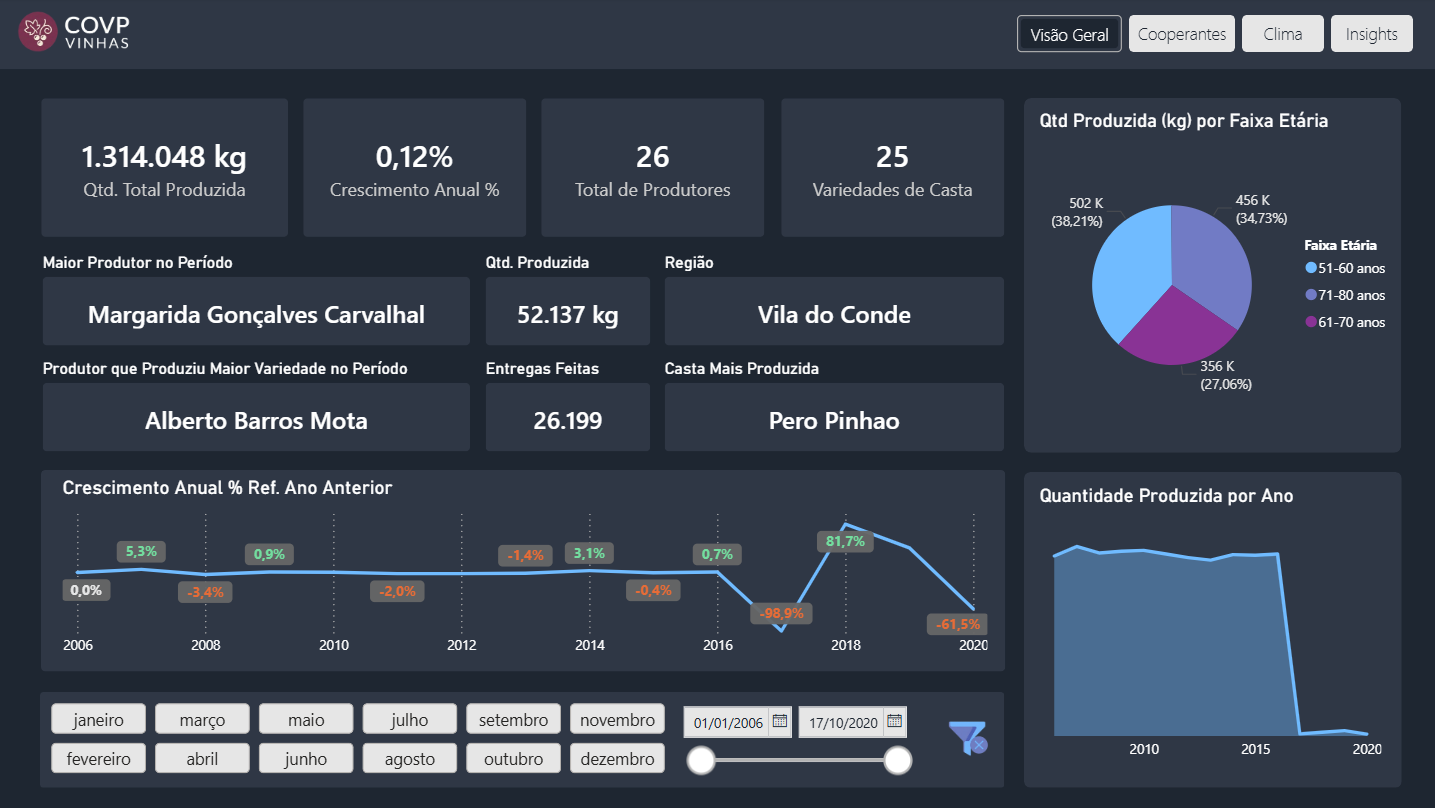

Layout of this report page (visuals, bound fields, positions):
{"tool":"powerbi","page":{"name":"Visão Geral","canvas":[1280,720],"ordinal":0},"visuals":[{"type":"group","id":"g1","title":"Grupo 1","box":[36.9,418.8,855,178.8],"z":0},{"type":"group","id":"g2","title":"Grupo 2","box":[909.1,420,335,280],"z":500},{"type":"group","id":"g3","title":"Grupo 3","box":[909.1,89.1,334.5,314.5],"z":1000},{"type":"group","id":"g4","title":"Grupo 4","box":[36,615,855,85],"z":2000},{"type":"shape","box":[0,0,1280,63],"z":3000},{"type":"image","box":[0,7.8,133.3,45.7],"z":4000},{"type":"actionButton","box":[1181.1,15.1,72.7,32.8],"z":5000},{"type":"actionButton","box":[1102.2,15.1,72.7,32.8],"z":6000},{"type":"actionButton","box":[1002,15.1,94,32.8],"z":7000},{"type":"actionButton","box":[902.7,15.1,93.1,32.8],"z":8000},{"type":"cardVisual","fields":{"Data":["_Medida.Crescimento Anual %"]},"box":[252.5,72,232.5,157.5],"z":9000},{"type":"cardVisual","fields":{"Data":["_Medida.Total Quantidade (kg)"]},"box":[20,72,253.8,157.5],"z":10000},{"type":"cardVisual","title":"Maior Produtor no Período","fields":{"Data":["Min(Cooperantes.Nome)"]},"box":[33.8,226,389,87],"z":11000},{"type":"shape","box":[909.1,89.1,334.5,314.5],"z":11500,"group":"g3"},{"type":"shape","box":[909.1,420,335,280],"z":12000,"group":"g2"},{"type":"cardVisual","title":"Qtd. Produzida","fields":{"Data":["_Medida.Total Quantidade (kg)"]},"box":[426.3,226,156.8,87],"z":13000},{"type":"shape","box":[36.9,418.8,855,178.6],"z":13000,"group":"g1"},{"type":"lineChart","title":"Crescimento Anual % Ref. Ano Anterior","fields":{"Y":["_Medida.Crescimento Anual %"],"Category":["Calendario.Date.Variação.Hierarquia de Datas.Ano"]},"box":[51.1,423.9,830.5,168.1],"z":13500,"group":"g1"},{"type":"cardVisual","title":"Região","fields":{"Data":["Min(Cooperantes.Morada)"]},"box":[585,226,311,87],"z":14000},{"type":"cardVisual","fields":{"Data":["Medida.Total Produtores por Casta"]},"box":[463.8,72,232.5,157.5],"z":15000},{"type":"shape","box":[36,615,855,85],"z":15500,"group":"g4"},{"type":"advancedSlicerVisual","fields":{"Values":["Calendario.Date.Variação.Hierarquia de Datas.Mês"]},"box":[36,615,569,82],"z":15625,"group":"g4"},{"type":"slicer","fields":{"Values":["Calendario.Date"]},"box":[594,618,224,77],"z":15750,"group":"g4"},{"type":"cardVisual","fields":{"Data":["Count(TodosCooperantes.Casta)"]},"box":[676.2,72,232.5,157.5],"z":16000},{"type":"image","box":[841.2,638.8,36.2,35],"z":16000,"group":"g4"},{"type":"stackedAreaChart","title":"Quantidade Produzida por Ano","fields":{"Category":["Calendario.Date.Variação.Hierarquia de Datas.Ano"],"Y":["Medida.Total Quantidade (kg)"]},"box":[918.2,431,313.2,253.4],"z":17000,"group":"g2"},{"type":"actionButton","box":[835.3,630.7,48,50],"z":17000,"group":"g4"},{"type":"cardVisual","title":"Produtor que Produziu Maior Variedade no Período","fields":{"Data":["Min(Cooperantes.Nome)"]},"box":[34,320,389,87],"z":18000},{"type":"cardVisual","title":"Entregas Feitas","fields":{"Data":["CountNonNull(TodosCooperantes.DataEntrega)"]},"box":[426.2,320,156.9,87],"z":19000},{"type":"pieChart","fields":{"Category":["Cooperantes.Faixa Etária"],"Y":["Medida.Total Quantidade (kg)"]},"box":[917.9,99.1,325.7,293.3],"z":20000,"group":"g3"},{"type":"cardVisual","title":"Casta Mais Produzida","fields":{"Data":["Medida.Casta com Maior Producao"]},"box":[585,320,311,87],"z":20000}]}

Visuals, with their boxes in screenshot pixels (x1, y1, x2, y2), scaled from the page's 1280x720 canvas onto the 1435x808 screenshot:
"Grupo 1" group: left=41, top=470, right=1000, bottom=671
"Grupo 2" group: left=1019, top=471, right=1395, bottom=786
"Grupo 3" group: left=1019, top=100, right=1394, bottom=453
"Grupo 4" group: left=40, top=690, right=999, bottom=786
shape: left=0, top=0, right=1434, bottom=71
image: left=0, top=9, right=149, bottom=60
actionButton: left=1324, top=17, right=1406, bottom=54
actionButton: left=1236, top=17, right=1317, bottom=54
actionButton: left=1123, top=17, right=1229, bottom=54
actionButton: left=1012, top=17, right=1116, bottom=54
cardVisual - _Medida.Crescimento Anual %: left=283, top=81, right=544, bottom=258
cardVisual - _Medida.Total Quantidade (kg): left=22, top=81, right=307, bottom=258
"Maior Produtor no Período" cardVisual: left=38, top=254, right=474, bottom=351
shape: left=1019, top=100, right=1394, bottom=453
shape: left=1019, top=471, right=1395, bottom=786
"Qtd. Produzida" cardVisual: left=478, top=254, right=654, bottom=351
shape: left=41, top=470, right=1000, bottom=670
"Crescimento Anual % Ref. Ano Anterior" lineChart: left=57, top=476, right=988, bottom=664
"Região" cardVisual: left=656, top=254, right=1004, bottom=351
cardVisual - Medida.Total Produtores por Casta: left=520, top=81, right=781, bottom=258
shape: left=40, top=690, right=999, bottom=786
advancedSlicerVisual - Calendario.Date.Variação.Hierarquia de Datas.Mês: left=40, top=690, right=678, bottom=782
slicer - Calendario.Date: left=666, top=694, right=917, bottom=780
cardVisual - Count(TodosCooperantes.Casta): left=758, top=81, right=1019, bottom=258
image: left=943, top=717, right=984, bottom=756
"Quantidade Produzida por Ano" stackedAreaChart: left=1029, top=484, right=1381, bottom=768
actionButton: left=936, top=708, right=990, bottom=764
"Produtor que Produziu Maior Variedade no Período" cardVisual: left=38, top=359, right=474, bottom=457
"Entregas Feitas" cardVisual: left=478, top=359, right=654, bottom=457
pieChart - Cooperantes.Faixa Etária x Medida.Total Quantidade (kg): left=1029, top=111, right=1394, bottom=440
"Casta Mais Produzida" cardVisual: left=656, top=359, right=1004, bottom=457
